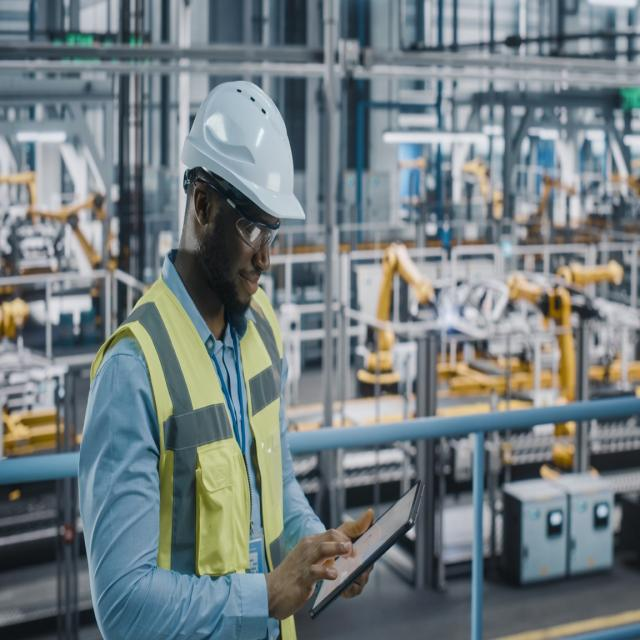Reflective-Jacket: (94, 278, 300, 640)
Safety-Helmet: (178, 74, 306, 221)
